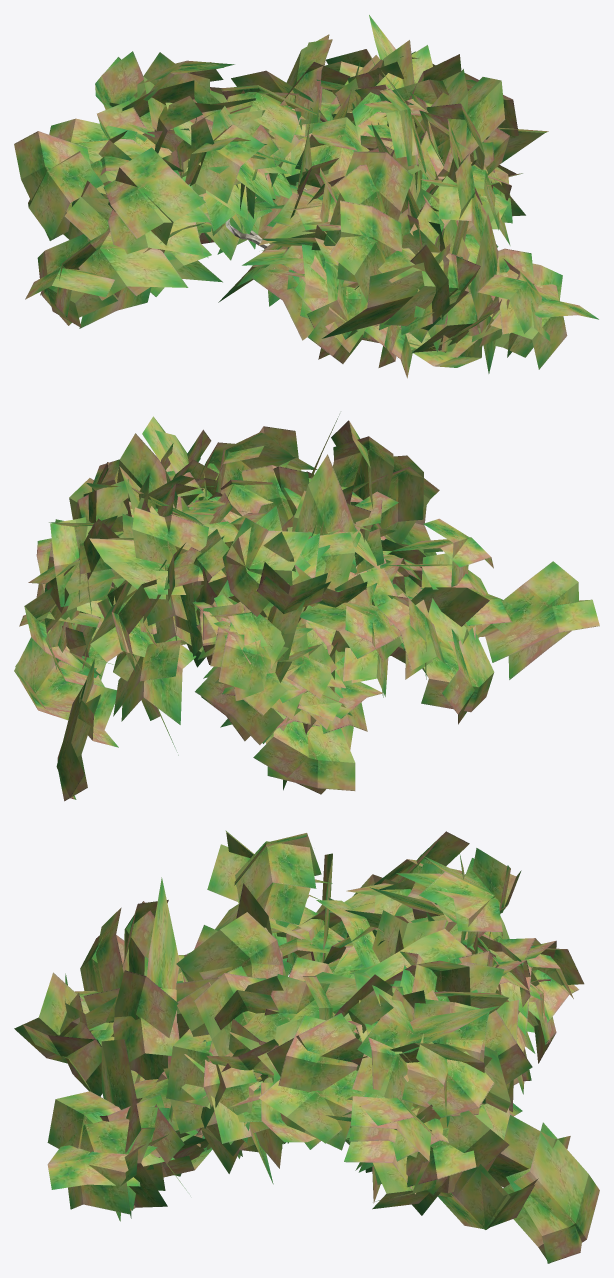
The model's file is bush_2_visual_low.obj.
The picture shows the model from 3 angles, top to bottom: view 1: azimuth 30°, elevation 25°; view 2: azimuth 150°, elevation 25°; view 3: azimuth 270°, elevation 25°; orthographic projection. The views are drawn at different scales.
Visible parts, largest first — view 1: Bush_1_2_visual_low; view 2: Bush_1_2_visual_low; view 3: Bush_1_2_visual_low.
Boxes of the visible parts, x1,y1,x2,y2 form: Bush_1_2_visual_low: (14, 15, 598, 378); Bush_1_2_visual_low: (14, 414, 599, 801); Bush_1_2_visual_low: (14, 830, 599, 1263).
Size of the model in its own units: 0.6237 by 0.3404 by 0.5426.
Materials: 1 (1 with a texture image).
